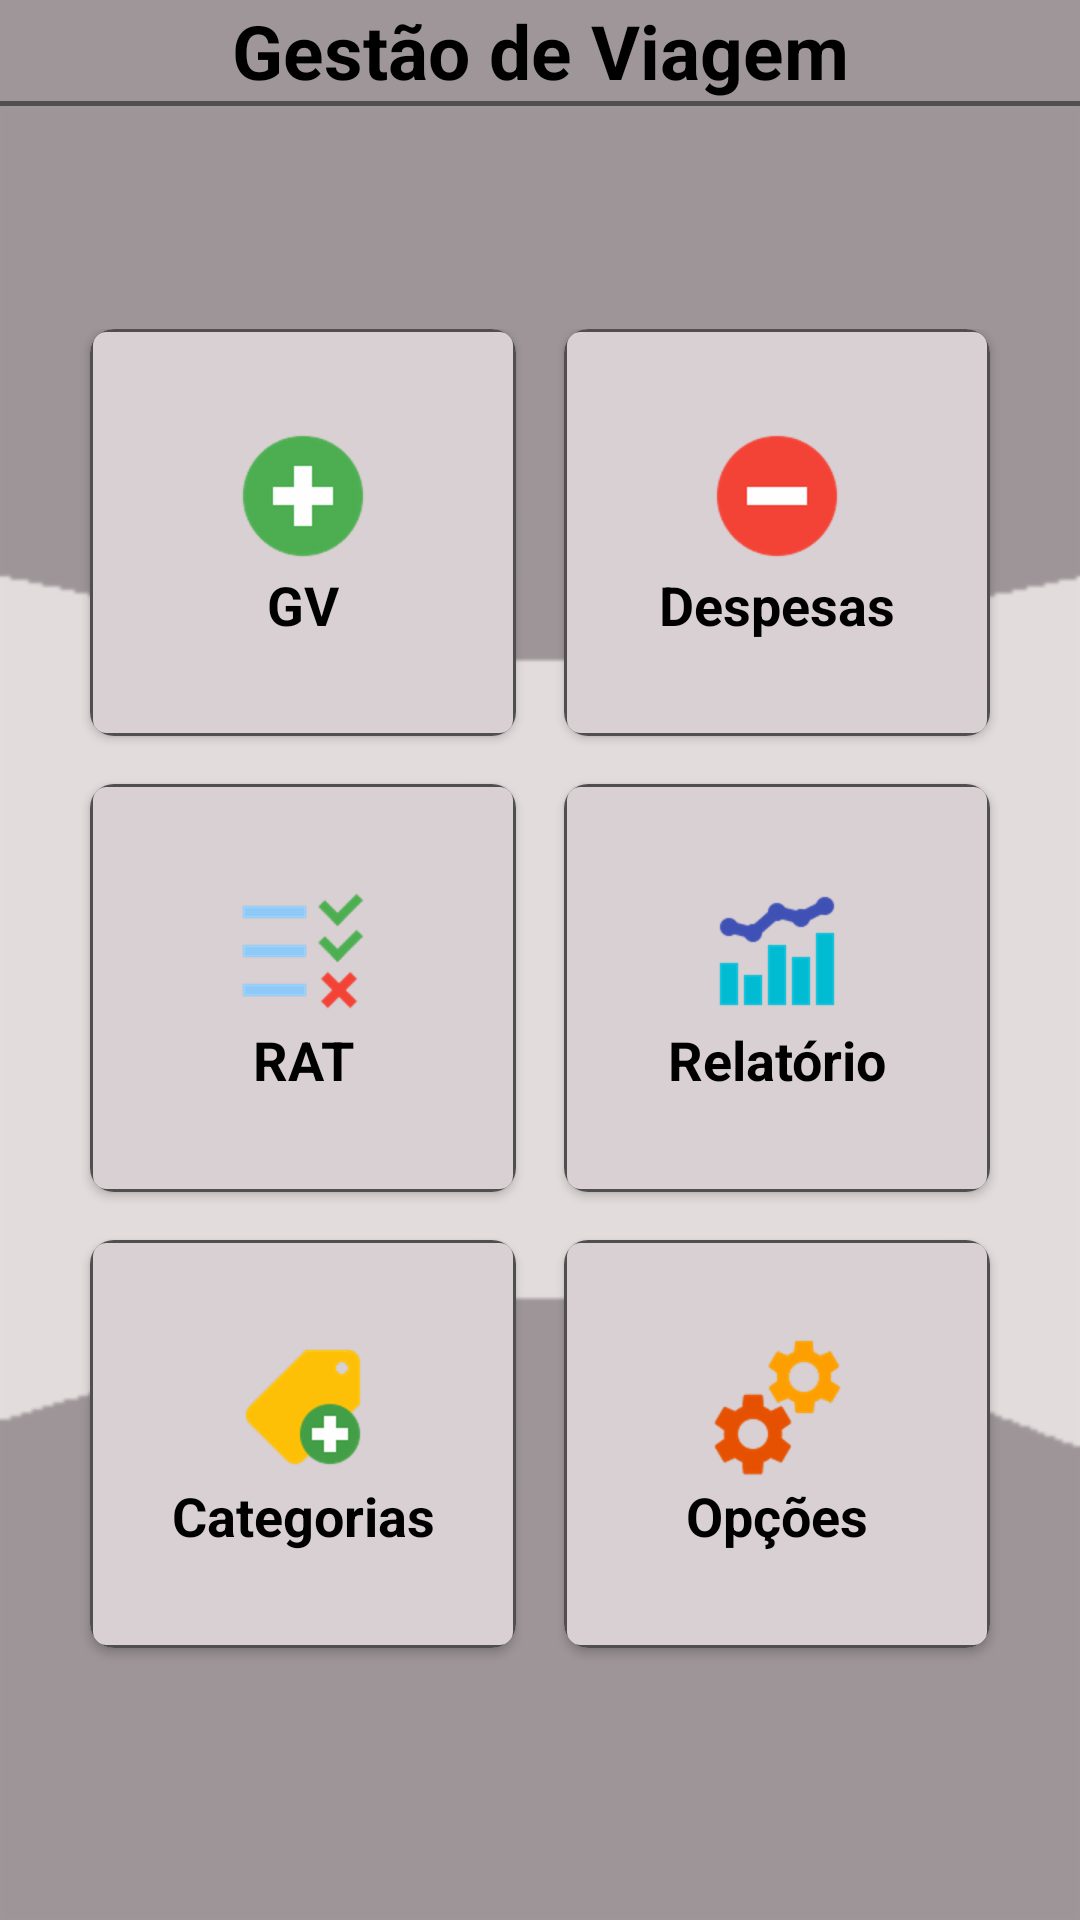

Icons on this 1080x1920 Android screen, each with its box as (x1, y1, x2, y2):
config: (714, 1340, 841, 1475)
iconscategor: (245, 1349, 361, 1465)
list: (243, 894, 363, 1008)
minus: (716, 435, 838, 557)
plus: (243, 436, 363, 557)
